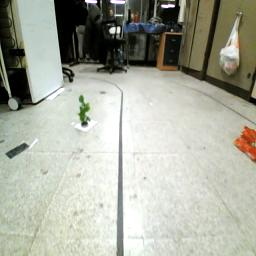herb: (79, 95, 94, 123)
wild: (235, 122, 256, 162)
